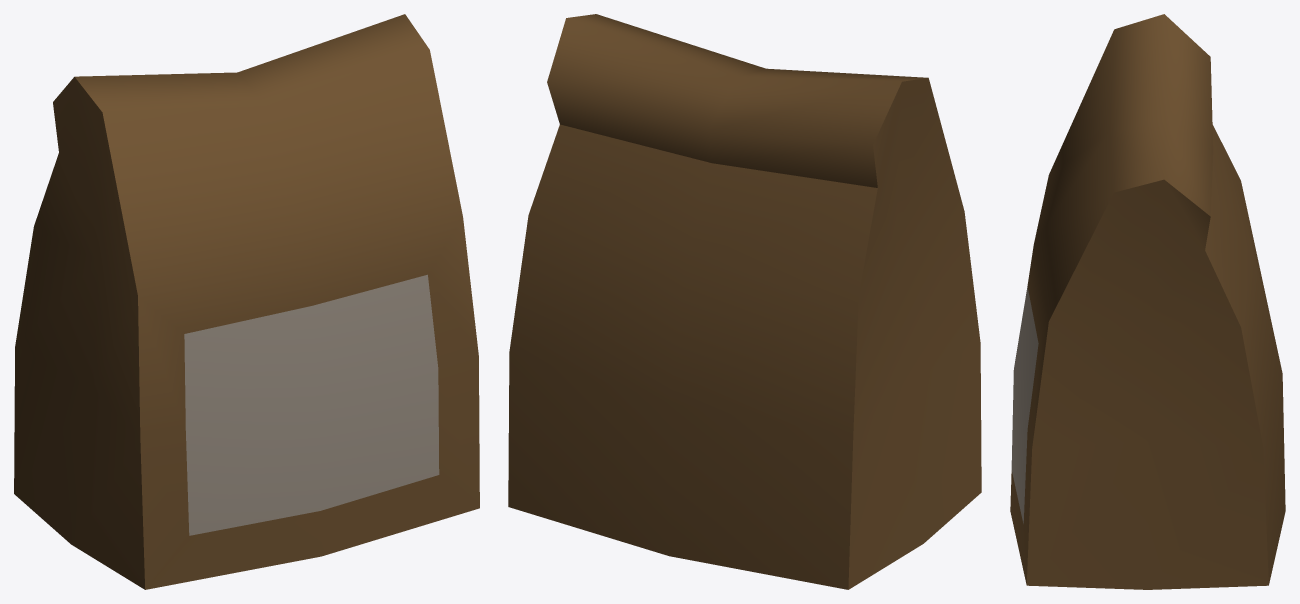
The model's file is bag_01.fbx.
The picture shows the model from 3 angles, left to right: view 1: azimuth 30°, elevation 25°; view 2: azimuth 150°, elevation 25°; view 3: azimuth 270°, elevation 25°; orthographic projection. The views are drawn at different scales.
Visible parts, largest first — view 1: bag_01; view 2: bag_01; view 3: bag_01.
Boxes of the visible parts, box(x1,y1,x2,y2) form: bag_01: box(14, 14, 479, 589); bag_01: box(508, 14, 981, 589); bag_01: box(1010, 14, 1285, 589).
Size of the model in its own units: 41.46 by 52.01 by 30.44.
